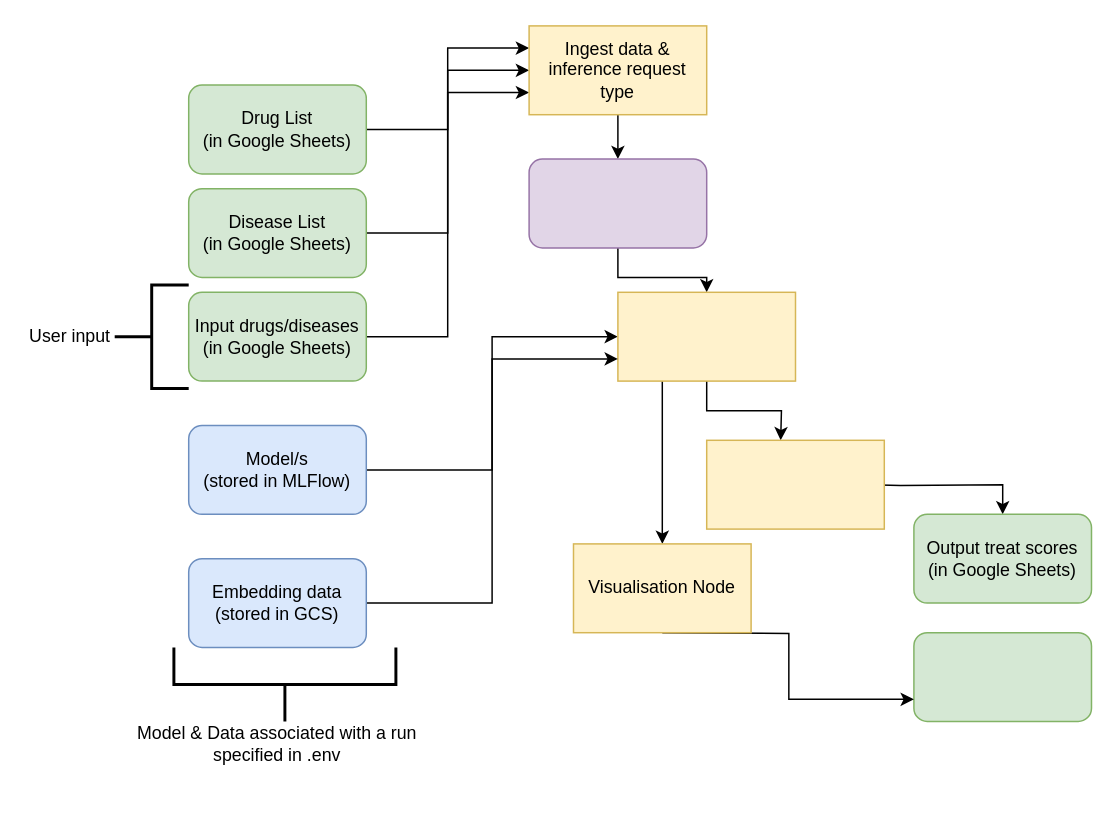
Image size: 1117x836. Some labels were removed from this diagram. Each missing label, with the box of its shape:
Inference input (temporary inputs): (528, 158, 707, 248)
Reporting Node: (705, 439, 884, 529)
Run predictions using drug/disease lists: (616, 291, 796, 381)
Visualisation of treat scores (in Google Sheets): (912, 631, 1092, 722)
